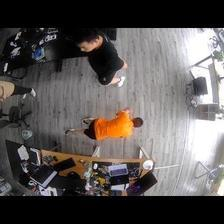fall: (64, 108, 146, 139)
normal: (72, 29, 126, 85)
